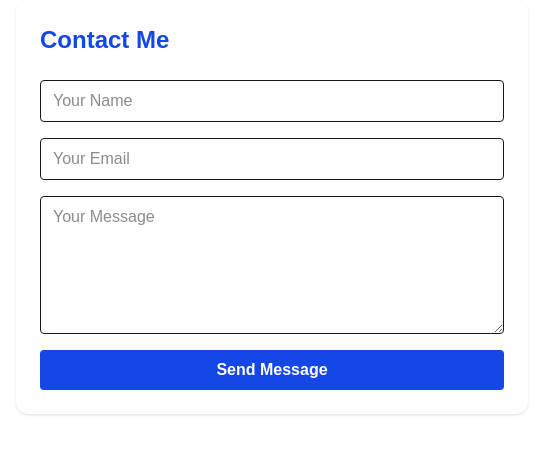
Test: ContactForm › should clear status when form is resubmitted
This screenshot has width=545, height=472.
# Fill form
In the field with placeholder "Your Name": point(272, 101) [40, 80, 504, 122], type "John Doe"
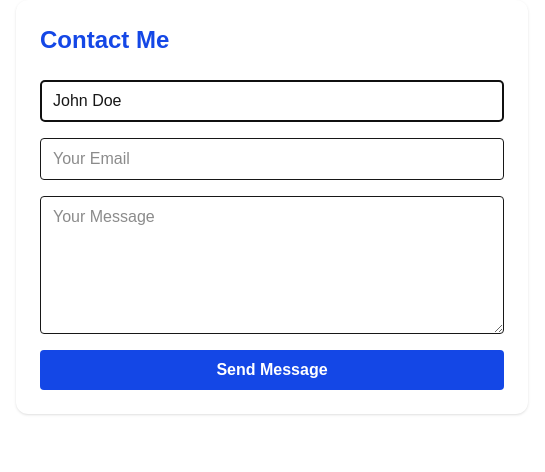
In the field with placeholder "Your Email": point(272, 159) [40, 138, 504, 180], type "john@example.com"
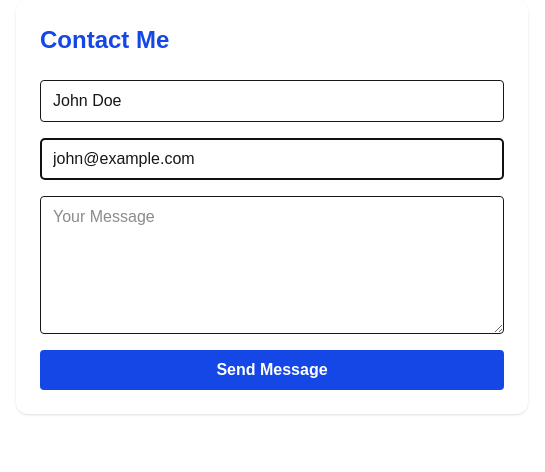
In the text box with placeholder "Your Message": point(272, 265) [40, 196, 504, 334], type "Test message"
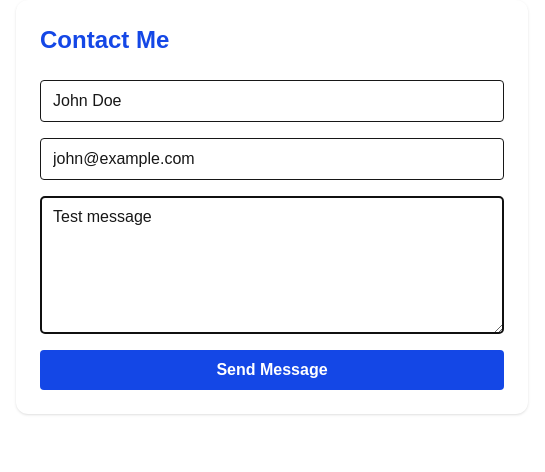
# First submission (should fail)
Click the button "Send Message": point(272, 370) [40, 350, 504, 390]
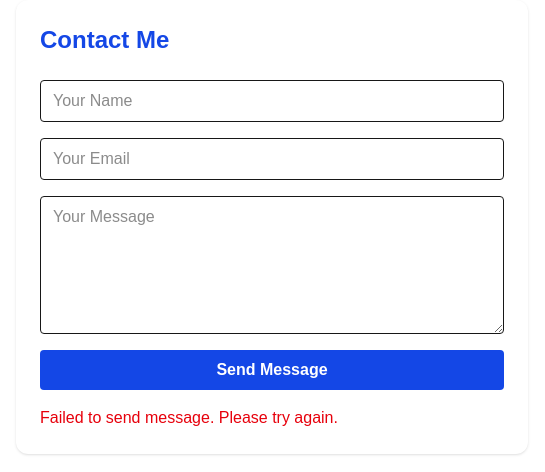
Now the text "Failed to send message. Please try again." is shown, box [40, 409, 338, 426]
Submit the form
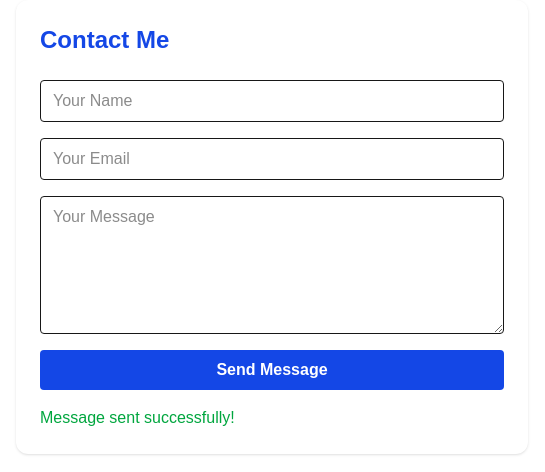
Now the text "Message sent successfully!" is shown, box [40, 409, 235, 426]
Now the text "Failed to send message" is gone
